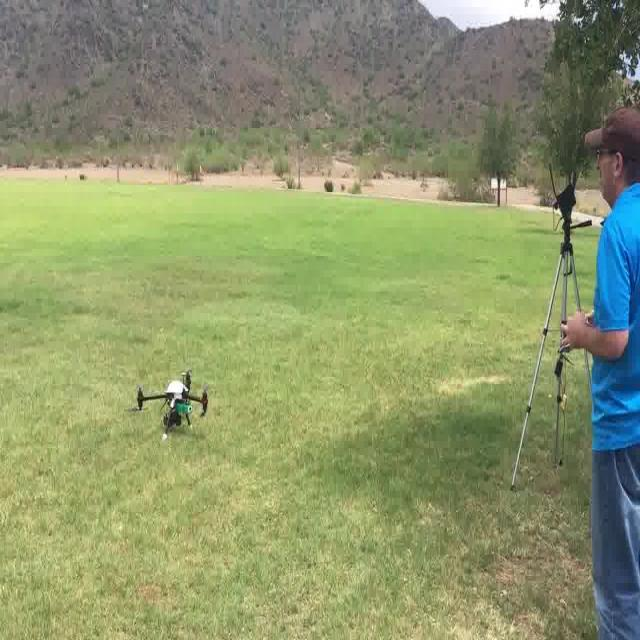drones: (127, 359, 214, 448)
